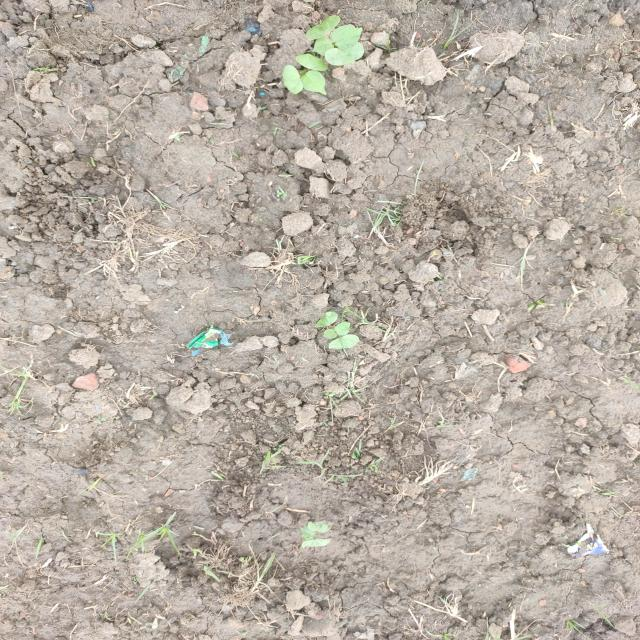seedling: (325, 42, 365, 66), (306, 15, 341, 40), (332, 25, 363, 49), (301, 70, 327, 95), (283, 65, 303, 94), (295, 54, 327, 71), (329, 334, 359, 349), (313, 37, 334, 56), (315, 311, 338, 327), (301, 539, 330, 548), (308, 522, 331, 533), (335, 322, 351, 336), (301, 526, 315, 540), (322, 328, 337, 339)
